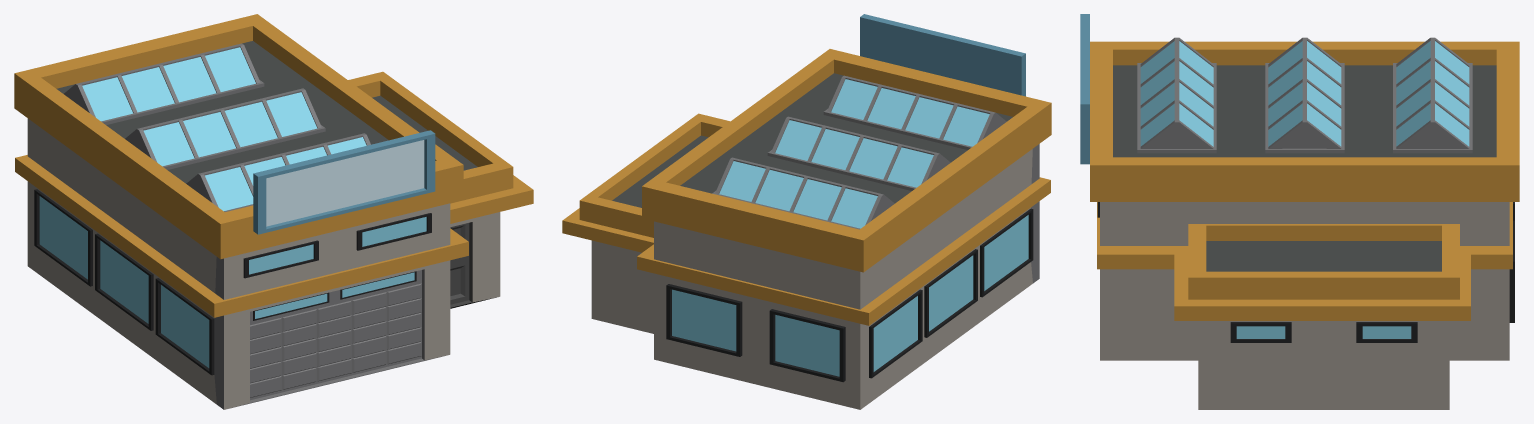
Rendered from SM_Garage_01.gltf.
3 renders of one model, left to right at view 1: azimuth 30°, elevation 25°; view 2: azimuth 150°, elevation 25°; view 3: azimuth 270°, elevation 25°, orthographic. The views are drawn at different scales.
Visible parts, largest first — view 1: SM_Garage_01; view 2: SM_Garage_01; view 3: SM_Garage_01.
Part boxes in pixels (x1=…): SM_Garage_01: x1=14, y1=14, x2=533, y2=409; SM_Garage_01: x1=562, y1=14, x2=1051, y2=409; SM_Garage_01: x1=1080, y1=14, x2=1519, y2=409.
Bounding box in the file's own units: 3.82 × 2.4 × 3.92.
